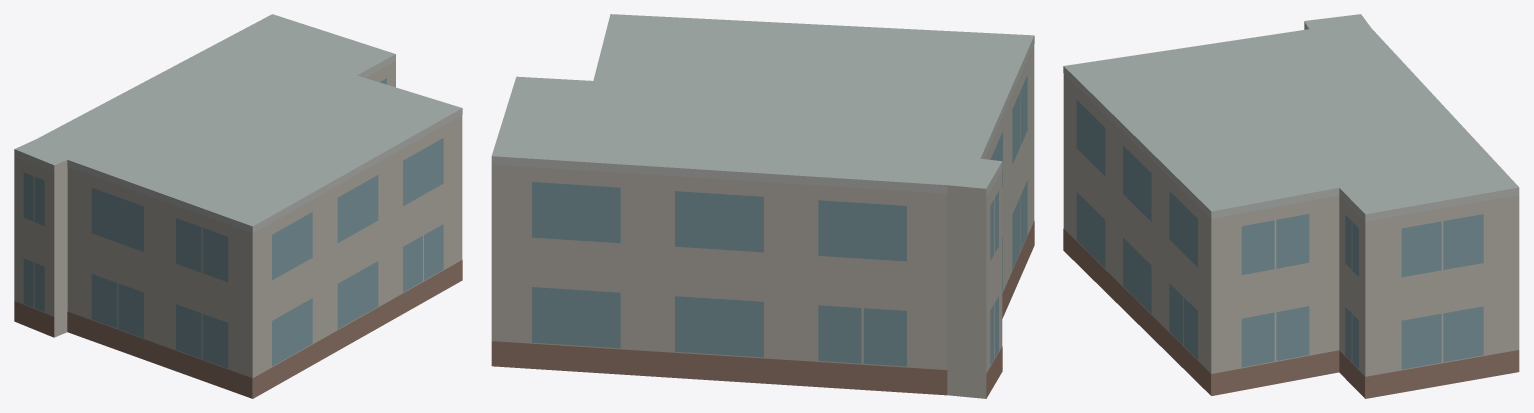
The model's file is survey-upis-32688004.glb.
3 views of the same model, side by side, from view 1: azimuth 30°, elevation 25°; view 2: azimuth 150°, elevation 25°; view 3: azimuth 270°, elevation 25° (orthographic). The views are drawn at different scales.
Visible parts, largest first — view 1: survey-upis-32688004.tmp; view 2: survey-upis-32688004.tmp; view 3: survey-upis-32688004.tmp.
Part boxes in pixels (x1,y1,x2,y2): survey-upis-32688004.tmp: (14, 14, 462, 398); survey-upis-32688004.tmp: (491, 14, 1034, 398); survey-upis-32688004.tmp: (1063, 14, 1519, 398).
Size of the model in its own units: 14.21 by 6.1 by 13.67.
